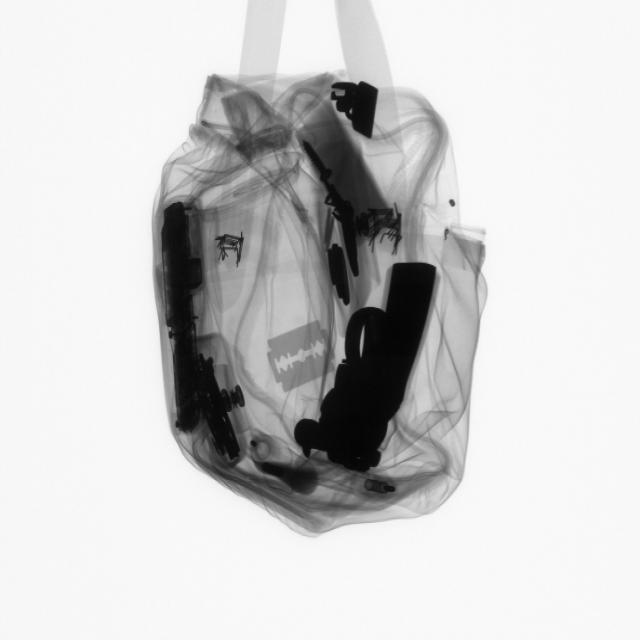BLADE: (261, 309, 339, 399)
GUN: (296, 256, 443, 476)
SCREW: (290, 136, 344, 189)
